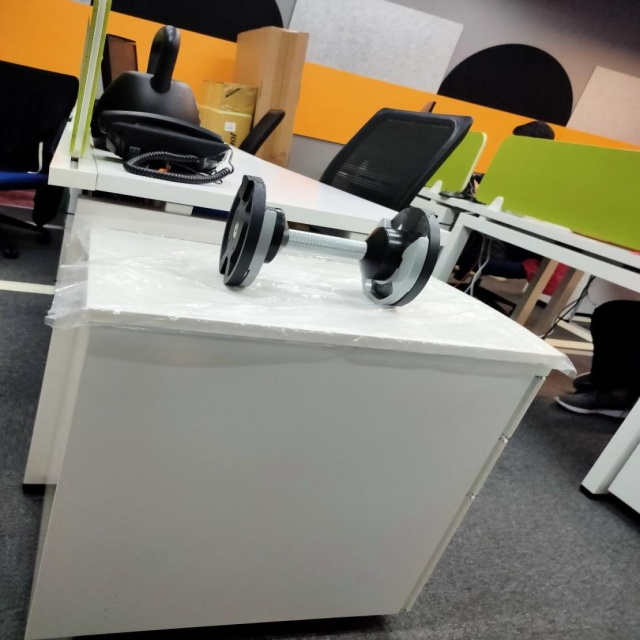02-4kg: (217, 173, 442, 306)
